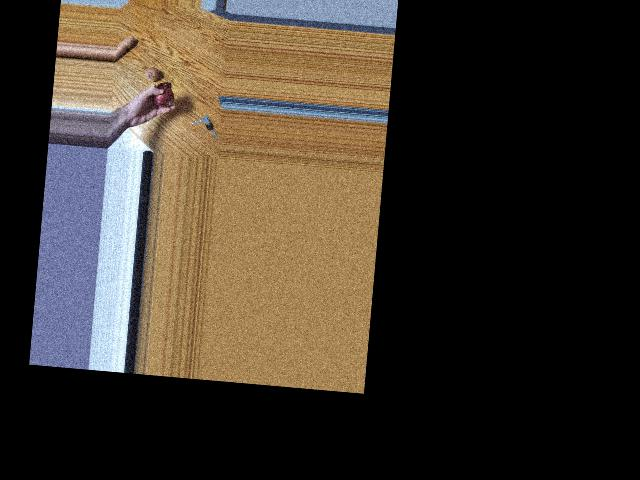onion: (154, 85, 174, 108)
